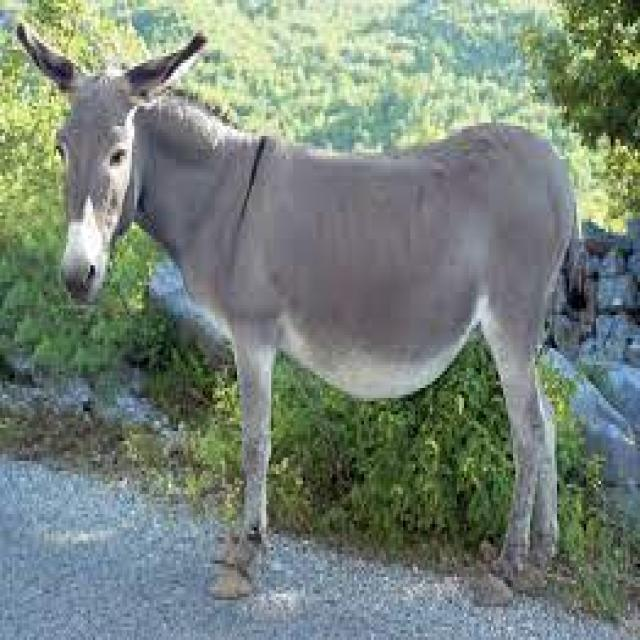Donkey: (9, 0, 596, 610)
